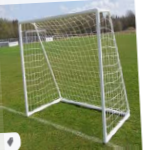goals: (17, 7, 131, 144)
